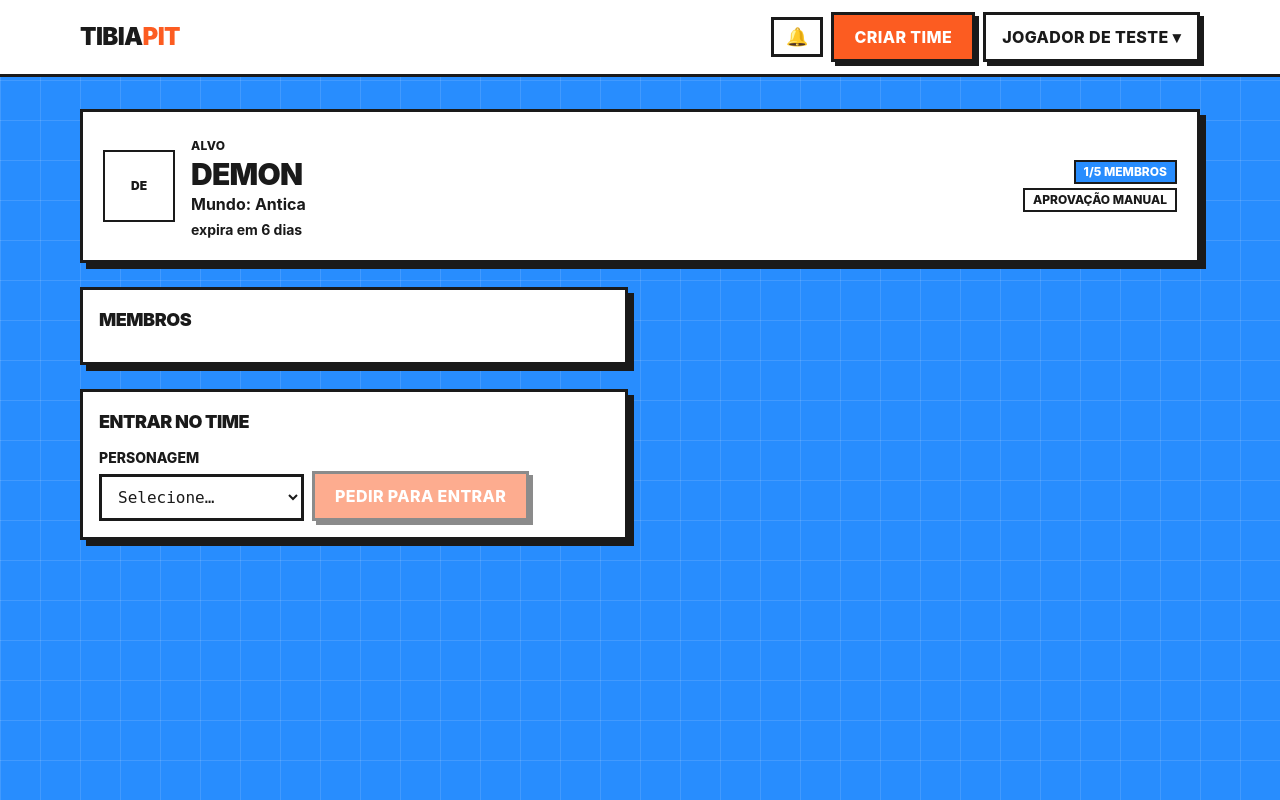
Test: TeamDetailPage — pedir para entrar › o botao so libera depois de escolher o personagem
Expected: the heading "Demon" is shown, [191,156,302,192]
Expected: the button "Pedir para entrar" is disabled, [312,471,529,521]
Select "Druida de Antica" in the dropdown labelled "Personagem" at (202, 498), box [99,474,304,521]
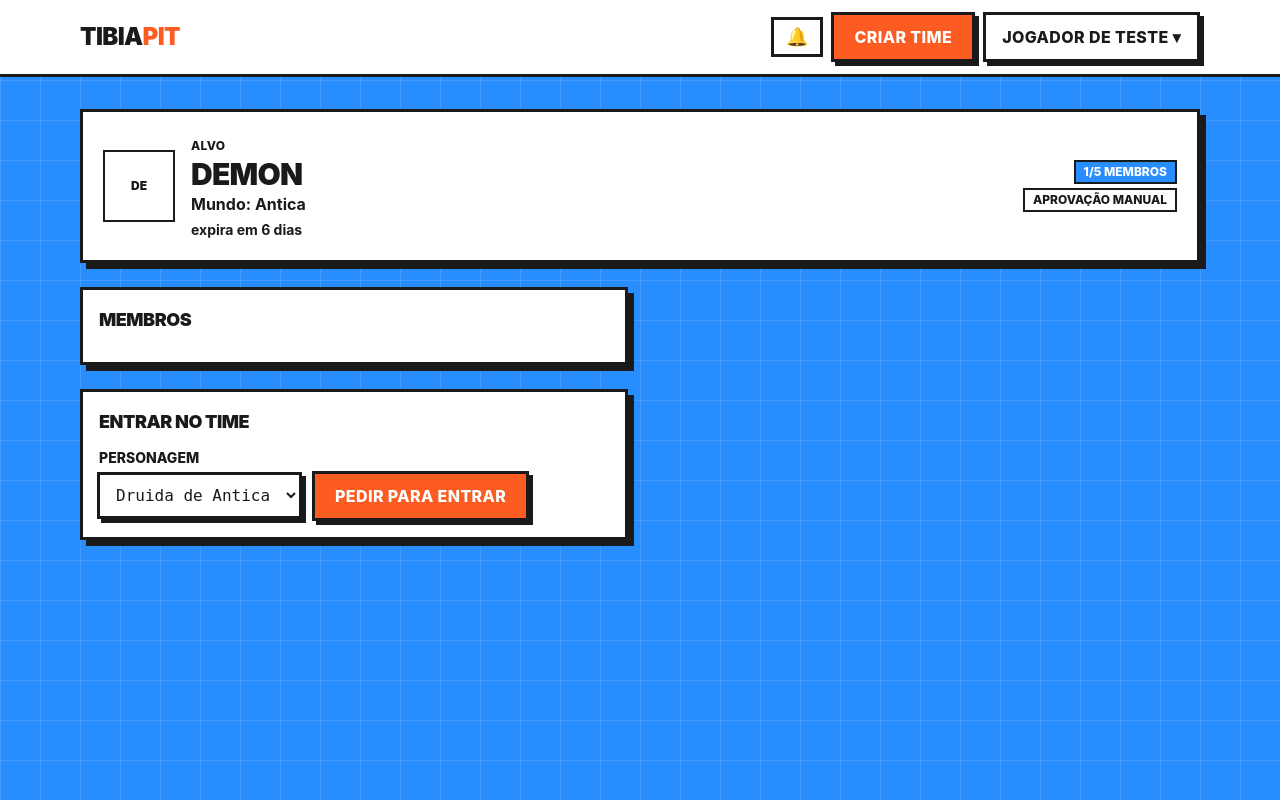
Result: the button "Pedir para entrar" is enabled at [312,471,529,521]
